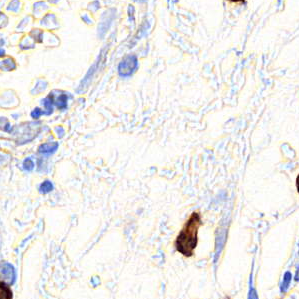Lymphocyte: (176, 212, 202, 254)
